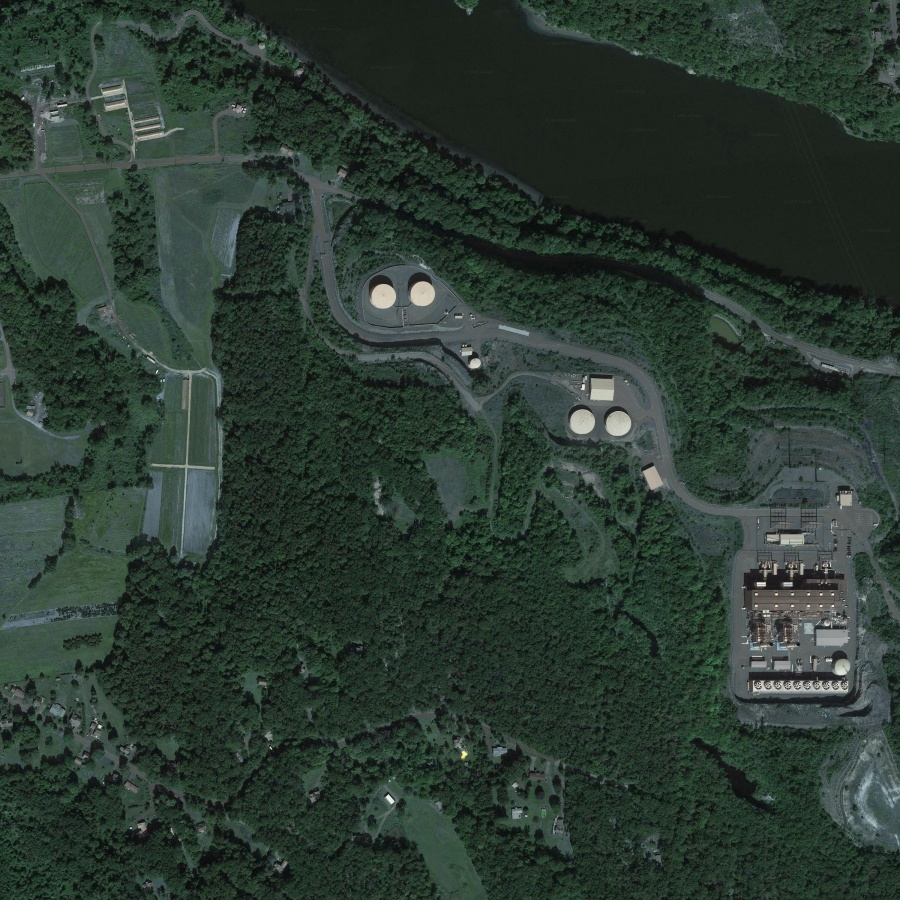PowerPlant: (735, 470, 881, 710)
